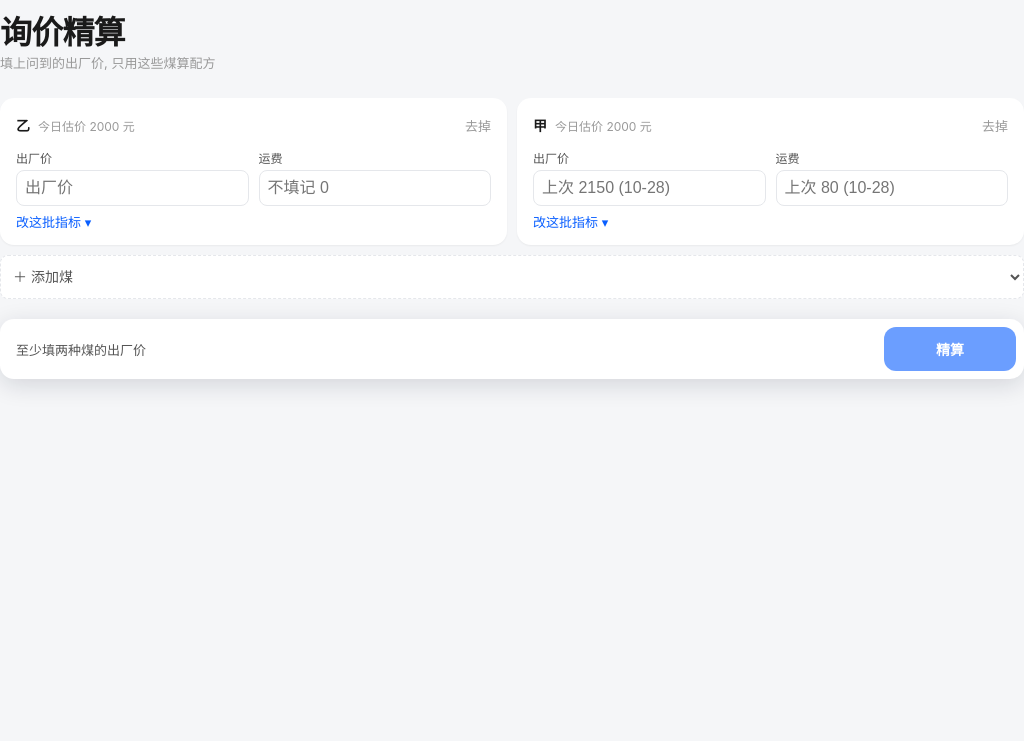
存档未完成或失败都不阻塞结果, 对比只列本批煤
Expected: the dropdown named "添加煤" is shown, [0,255,1023,299]
In the field named "甲 出厂价": coordinates (649, 188) [533,170,766,206], type "2150"
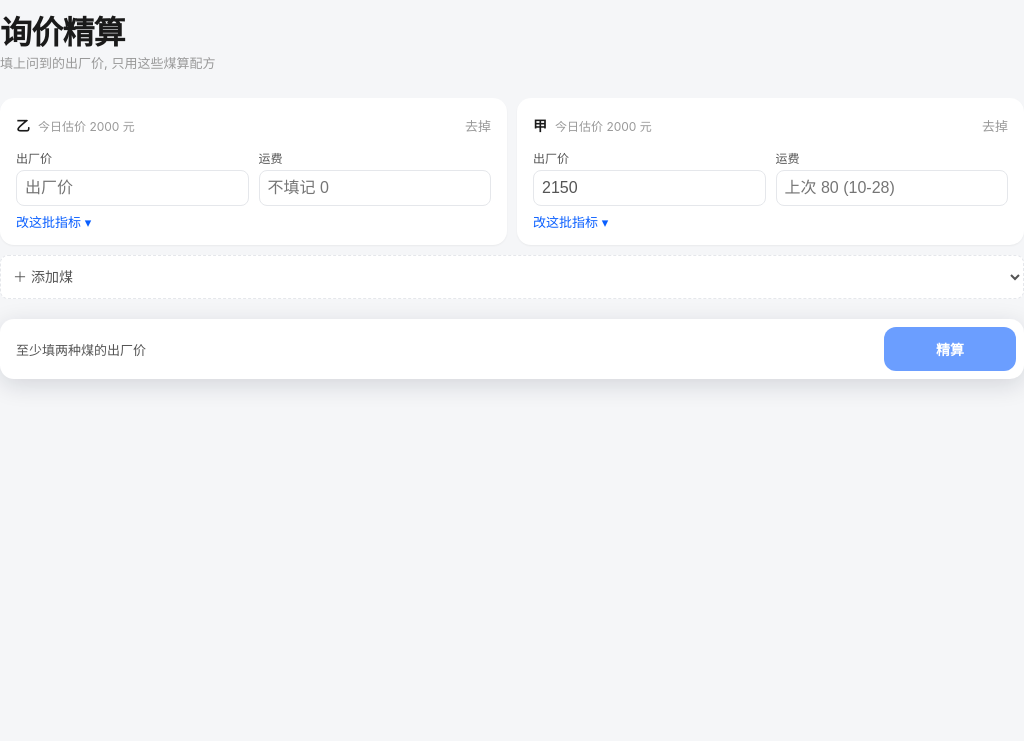
In the field named "乙 出厂价": coordinates (132, 188) [16,170,248,206], type "1980"
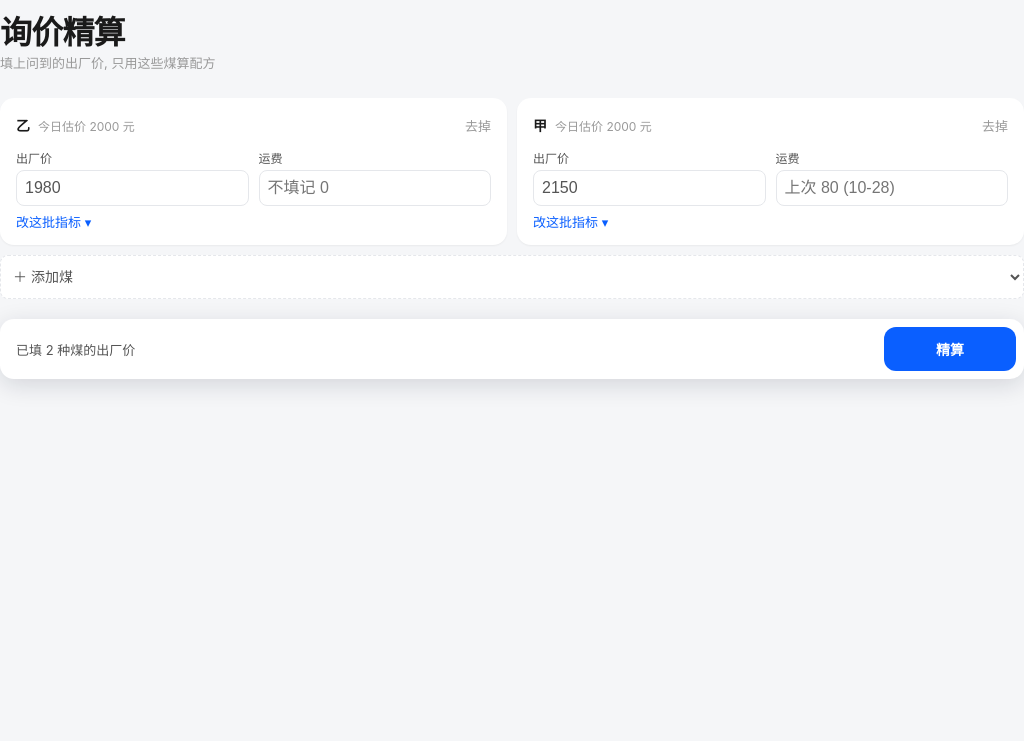
Click the button "精算": coordinates (950, 349) [884,327,1016,371]
(page scrolled)
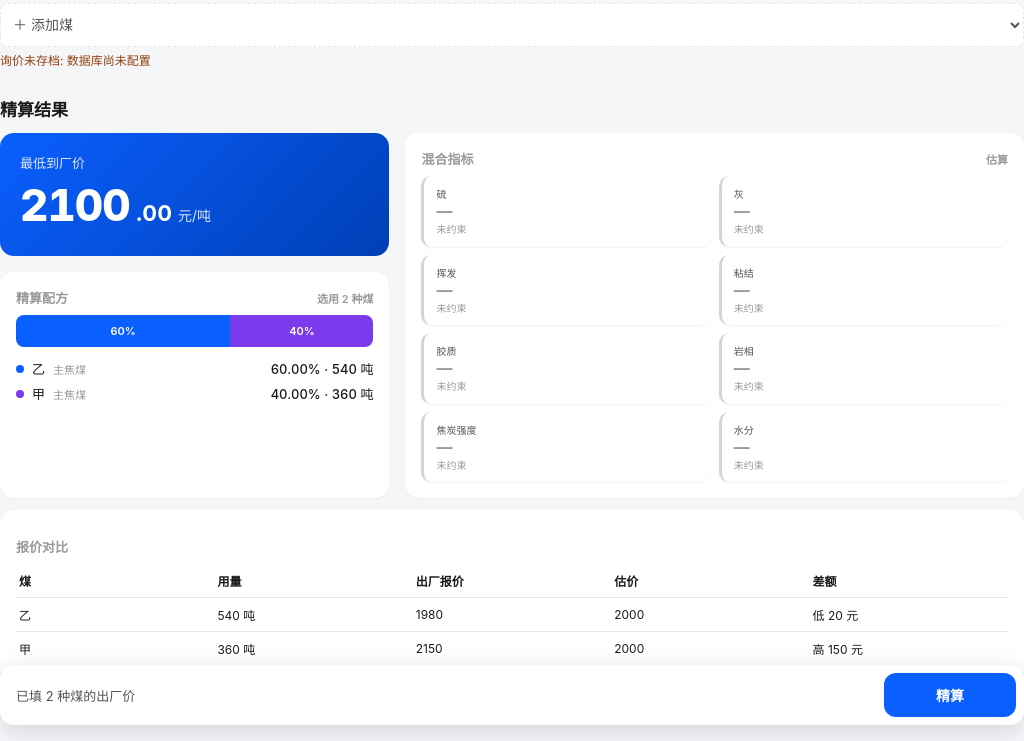
Now the text "高 150 元" is shown, box [810,631,1008,665]
Now the text "低 20 元" is shown, box [810,597,1008,631]
Now the text "混合指标" is shown, box [422,149,474,168]
